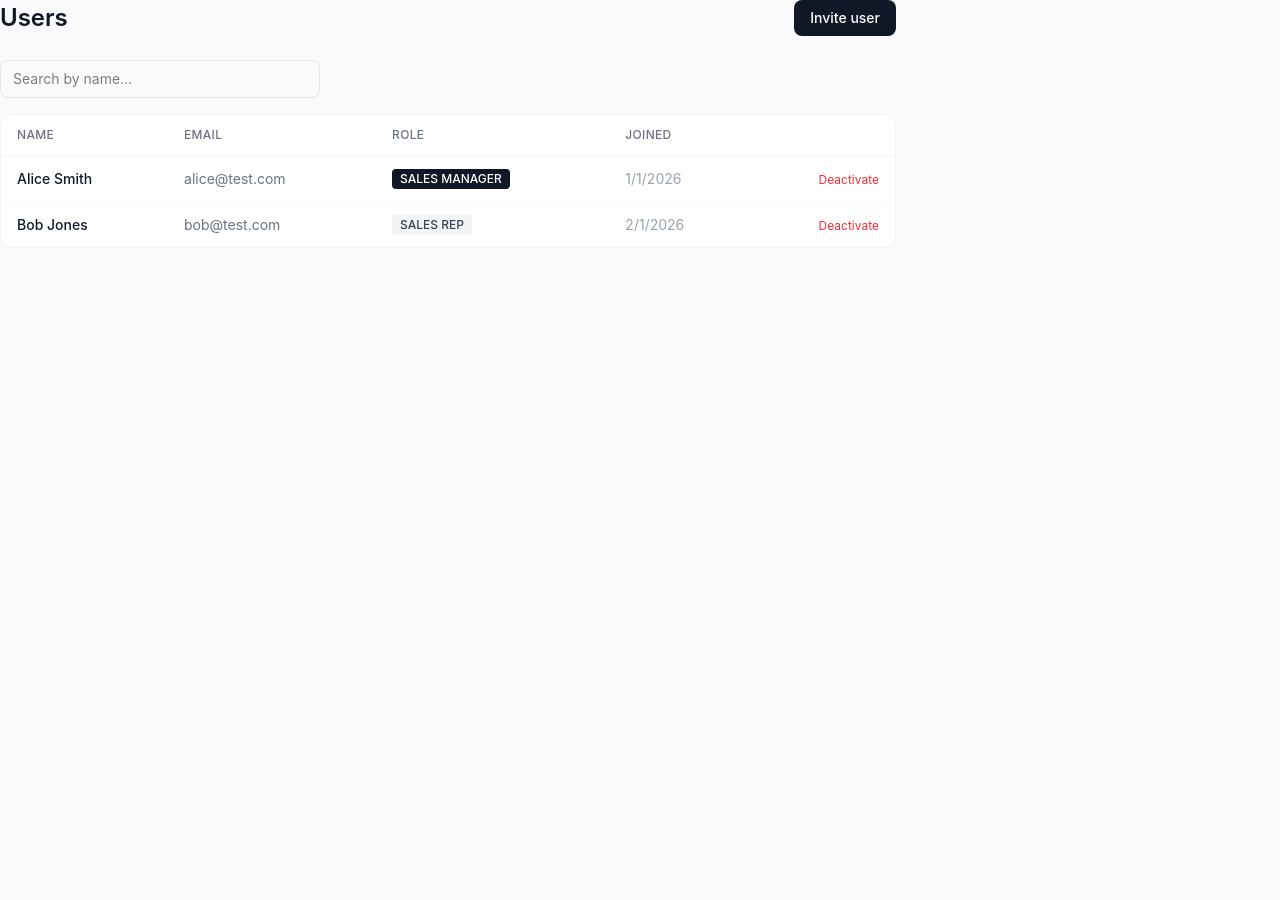
Scenario: UsersPage › opens deactivate confirmation when Deactivate is clicked
Expected: the text "Alice Smith" is shown, 1,156 -> 168,202
Click the button "Deactivate" in the row of "Alice Smith" at (849, 180), box 819,172 -> 879,188
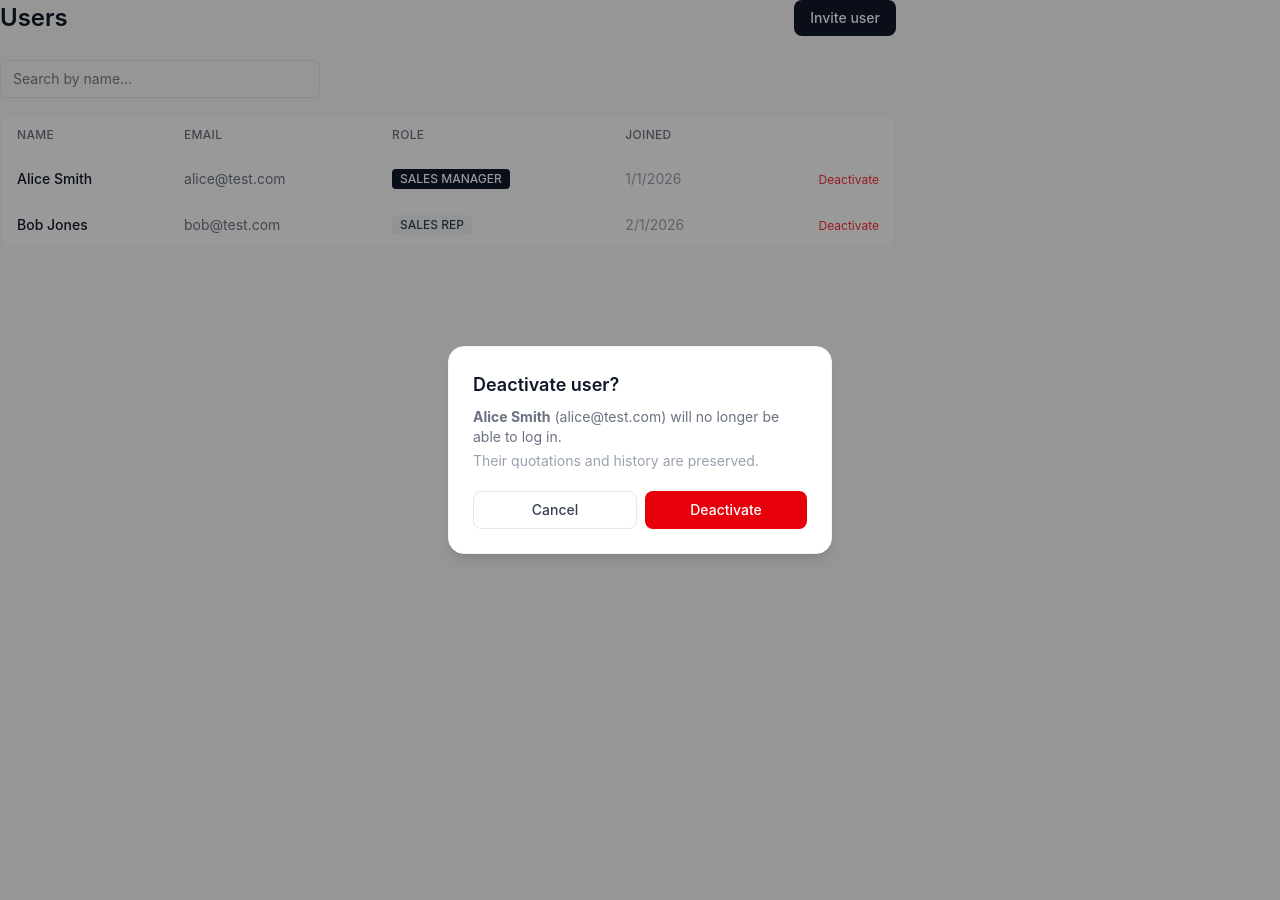
Expected: the heading "Deactivate user?" is shown, 473,374 -> 619,395
